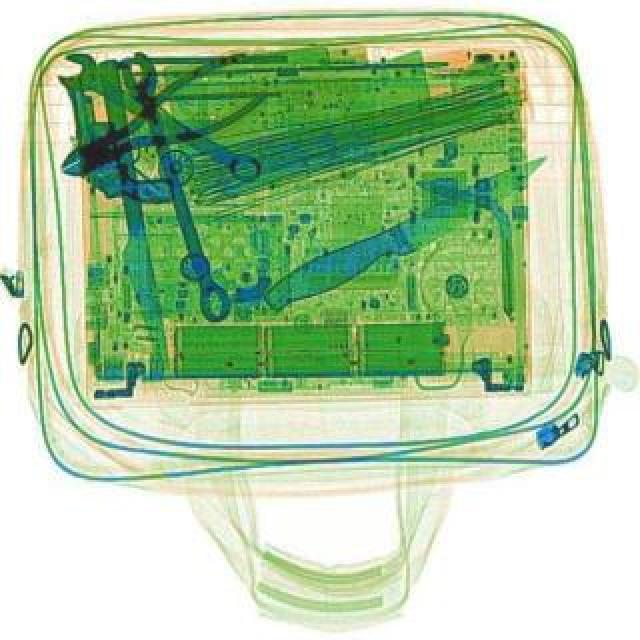gun: (62, 68, 176, 216)
knife: (258, 148, 558, 322), (88, 62, 170, 376)
scissors: (112, 52, 238, 330), (50, 50, 274, 194)
wrench: (42, 48, 270, 204)
